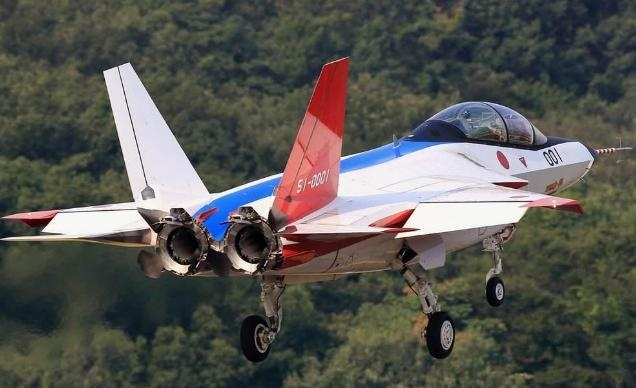airplane: (3, 54, 620, 365)
